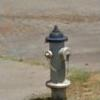Hydrant: (38, 23, 76, 100)
